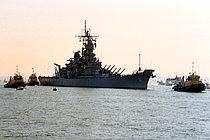MIL_Ship: (38, 29, 156, 90)
